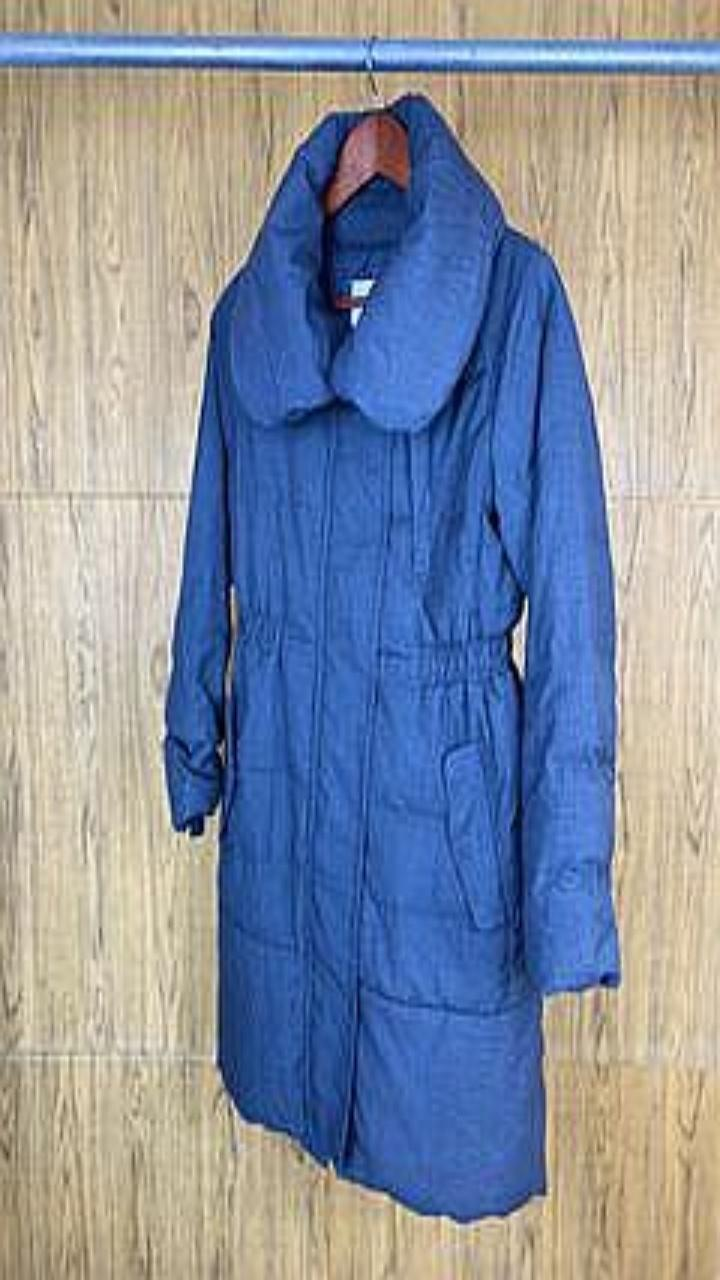Coat: (163, 92, 619, 1221)
